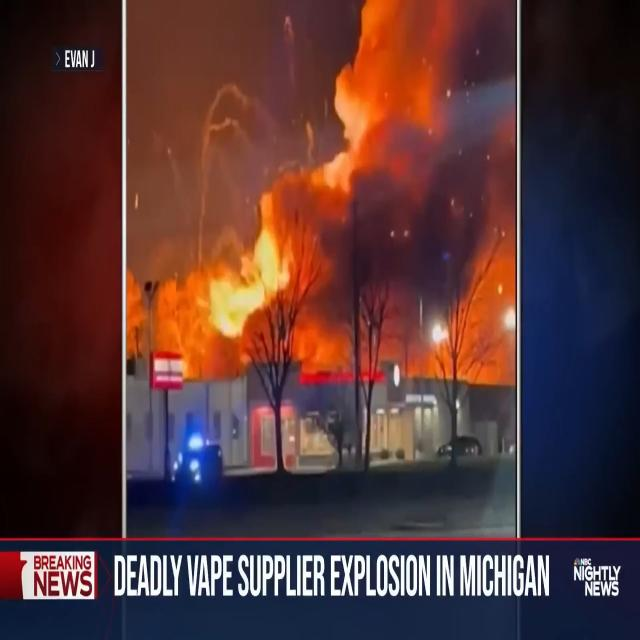fire: (124, 6, 518, 383)
